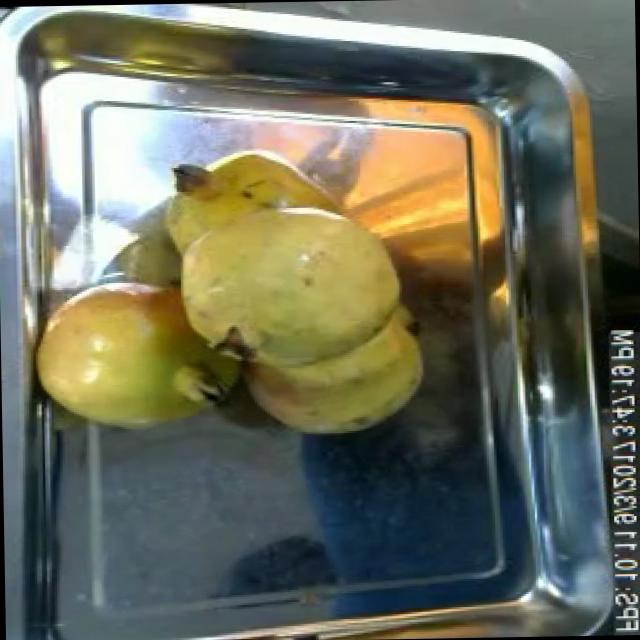fruit: (166, 184, 428, 390), (22, 260, 225, 447), (158, 134, 355, 220)
